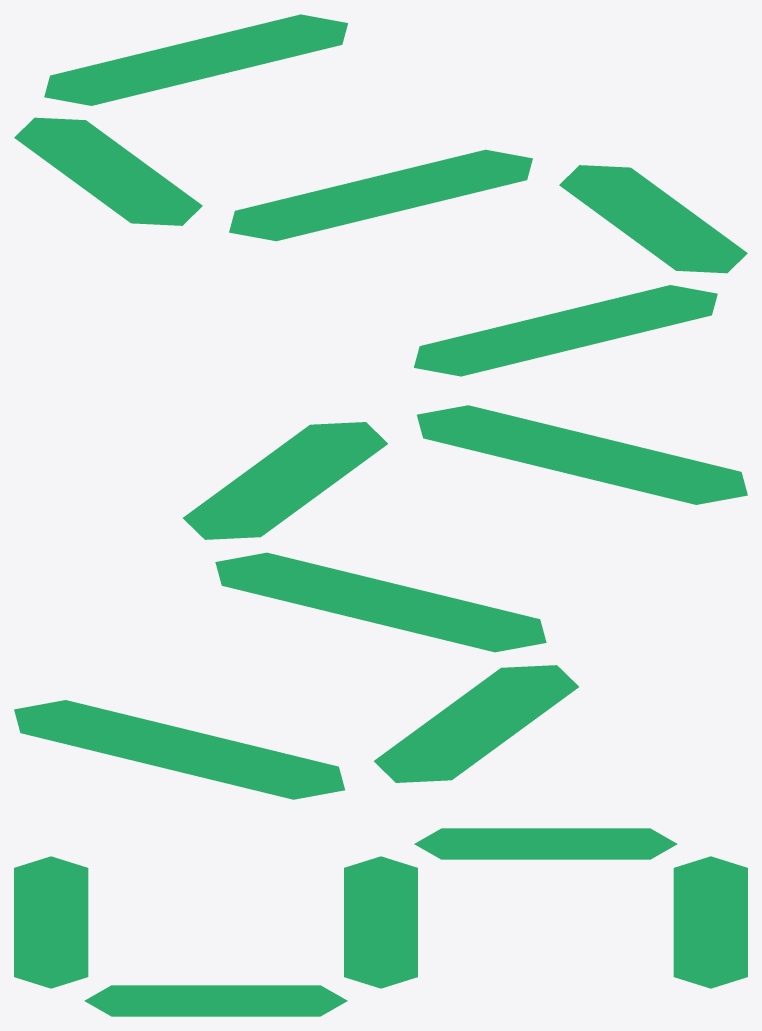
3 renders of one model, top to bottom at view 1: azimuth 30°, elevation 25°; view 2: azimuth 150°, elevation 25°; view 3: azimuth 270°, elevation 25°, orthographic. The views are drawn at different scales.
Size of what is drawn, in the model's own units: 1.62 by 0 by 2.67.
Materials: 1 (1 with a texture image).
